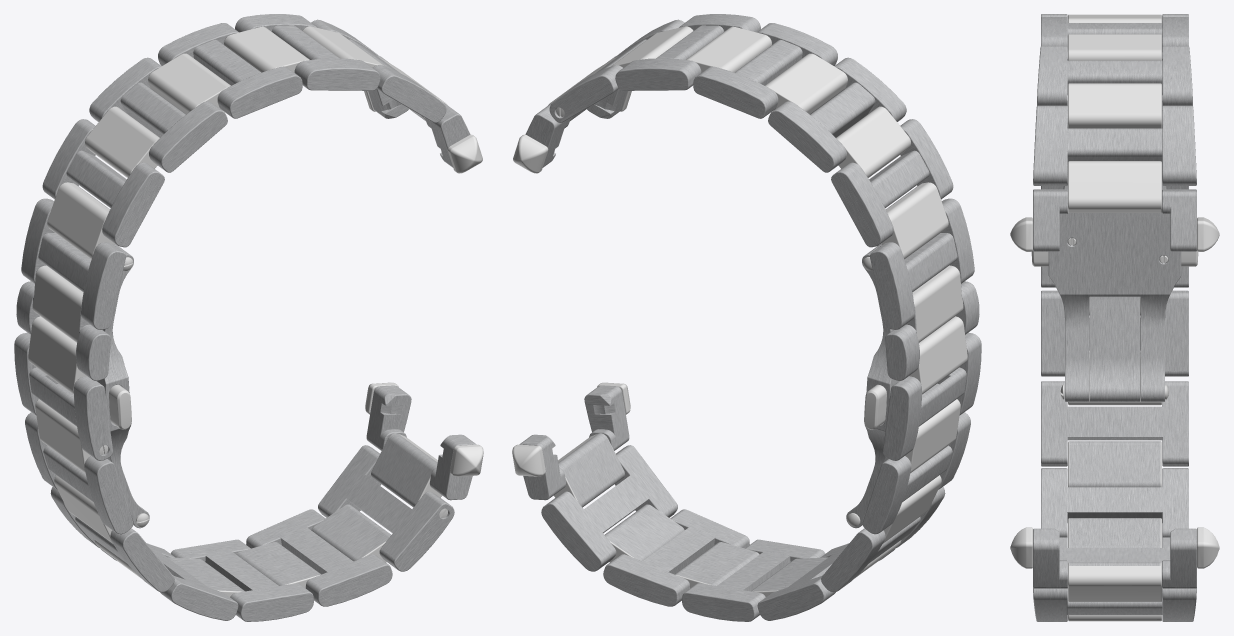
File: Pasha_Bracelet.fbx
3 renders of one model, left to right at view 1: azimuth 30°, elevation 25°; view 2: azimuth 150°, elevation 25°; view 3: azimuth 270°, elevation 25°, orthographic.
Parts seen in each view (by area): view 1: BRep_1.657; view 2: BRep_1.657; view 3: BRep_1.657.
Part boxes in pixels (left/top/right/bottom): BRep_1.657: left=14, top=14, right=483, bottom=621; BRep_1.657: left=512, top=14, right=981, bottom=621; BRep_1.657: left=1010, top=14, right=1219, bottom=621.
Size of the model in its own units: 58.69 by 77.88 by 26.79.
